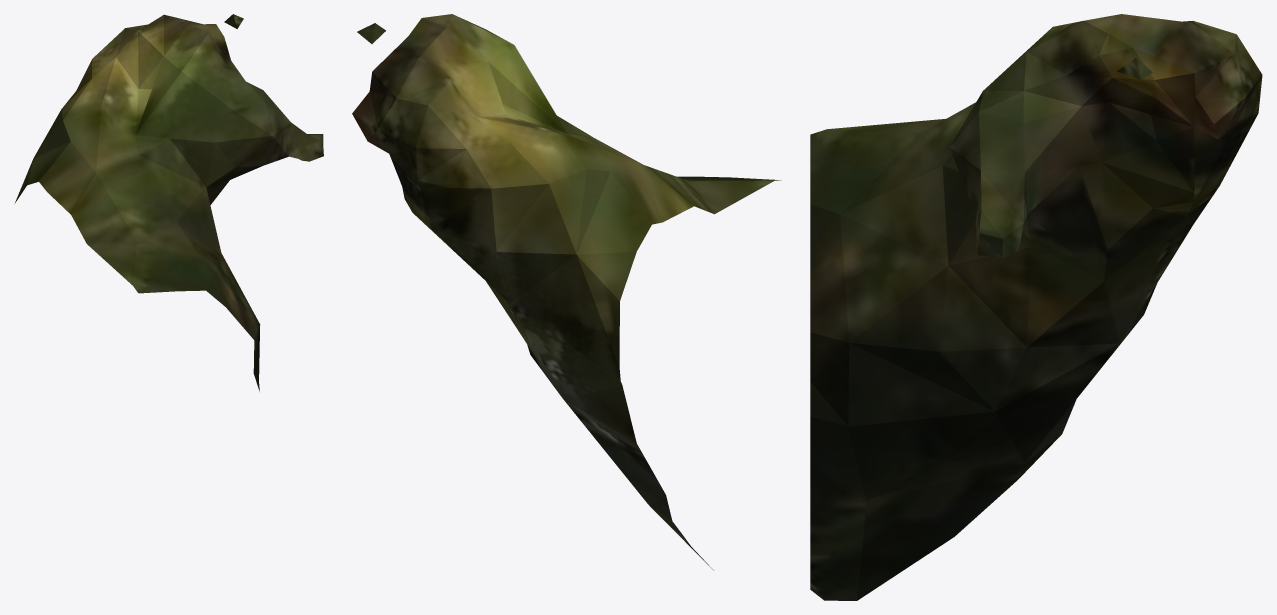
3 views of the same model, side by side, from view 1: azimuth 30°, elevation 25°; view 2: azimuth 150°, elevation 25°; view 3: azimuth 270°, elevation 25° (orthographic). The views are drawn at different scales.
Bounding box in the file's own units: 0.2192 × 0.3922 × 0.2298.
1 material, 1 textured.
